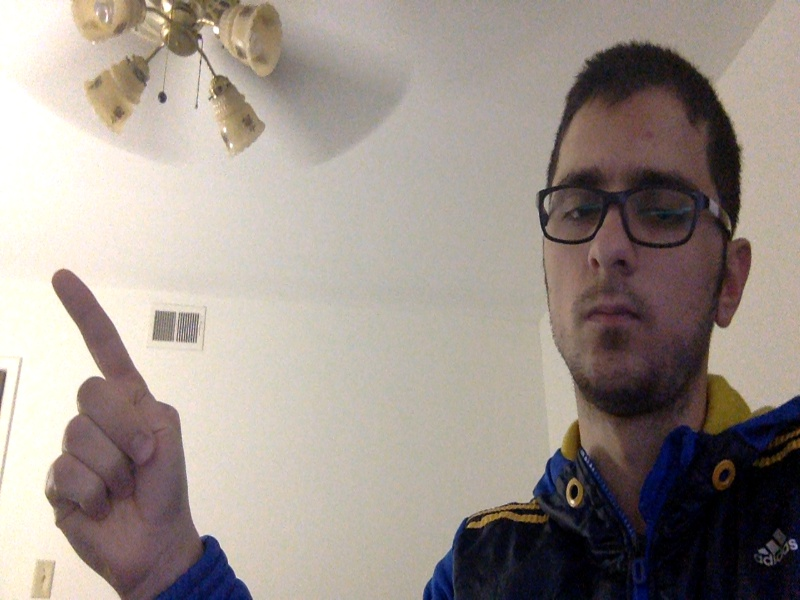1-hand: (45, 269, 189, 590)
